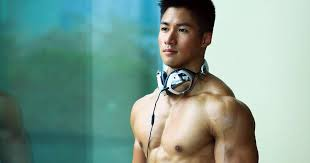asian_male: (151, 1, 209, 69)
